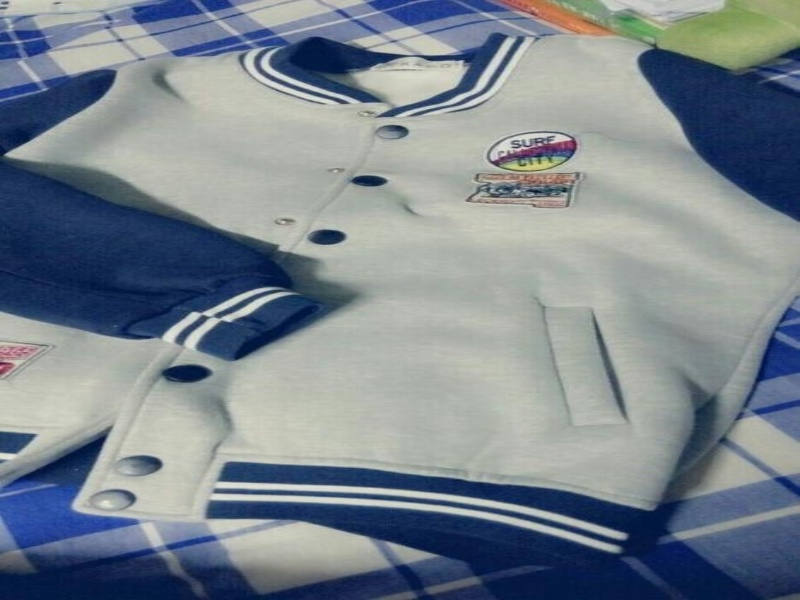long_sleeved_shirt: (10, 17, 793, 566)
